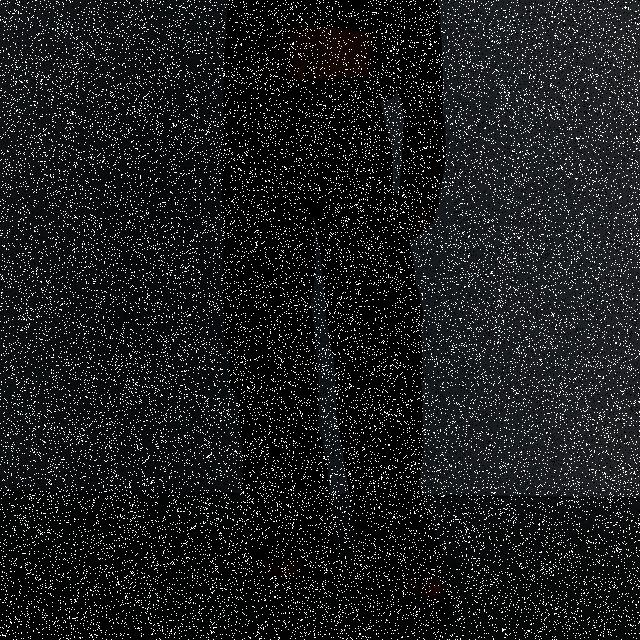Blouse_deep: (226, 80, 444, 584)
